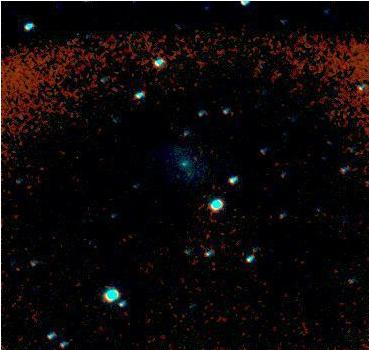star: (80, 230, 110, 260)
